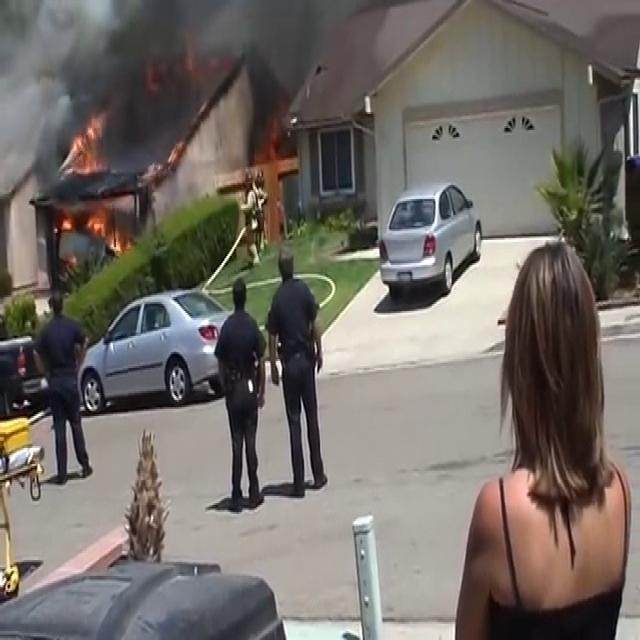Fire: (64, 114, 101, 162), (89, 204, 123, 255)
Smoke: (0, 1, 317, 163)
